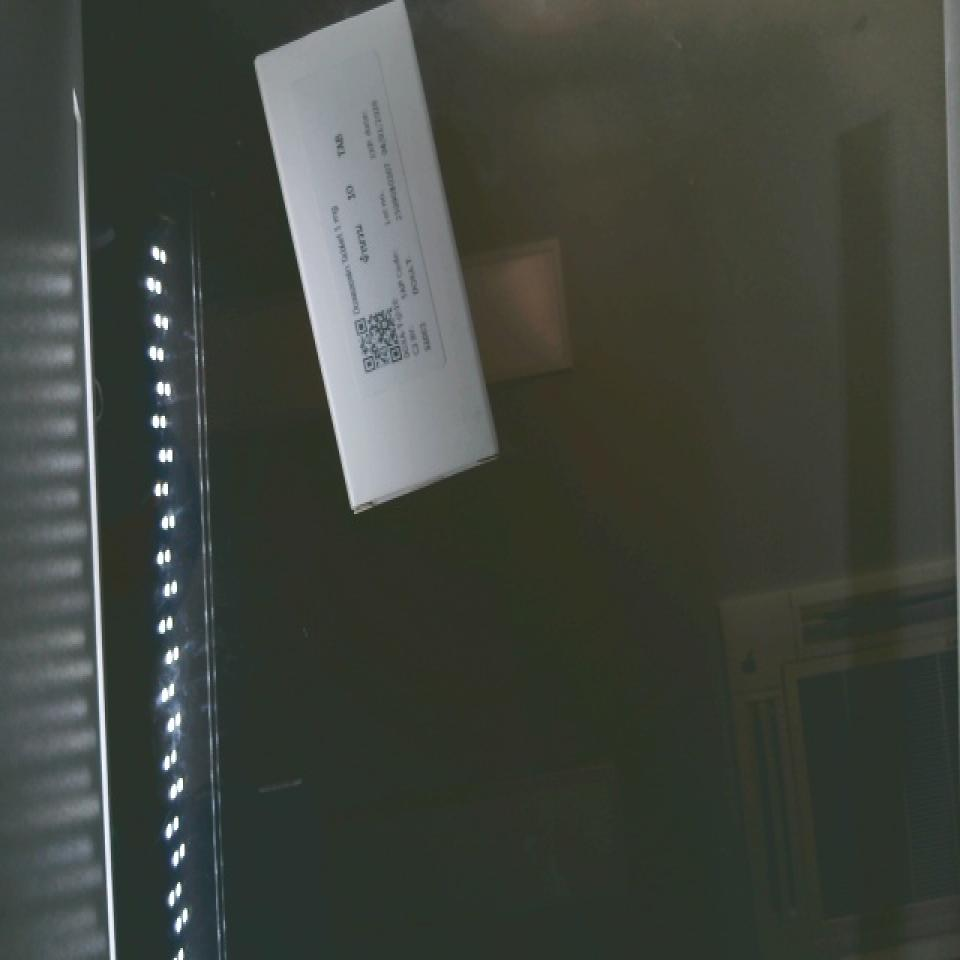medicine_box: (245, 0, 506, 509)
qr_code: (337, 289, 431, 394)
